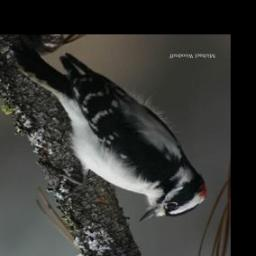Woodpecker: (13, 43, 207, 223)
